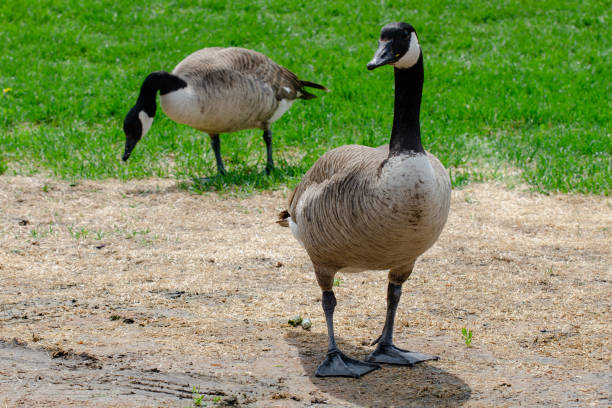goose: (266, 17, 455, 382), (105, 44, 328, 183)
